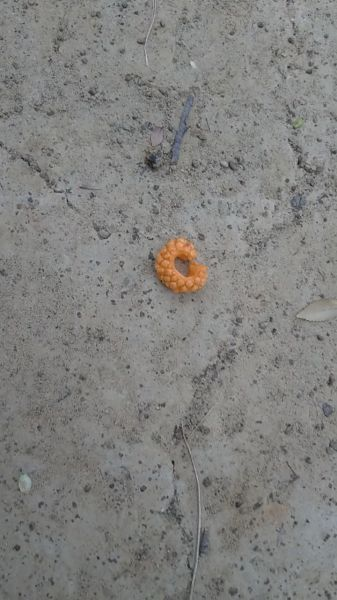eggs: (151, 237, 205, 294)
